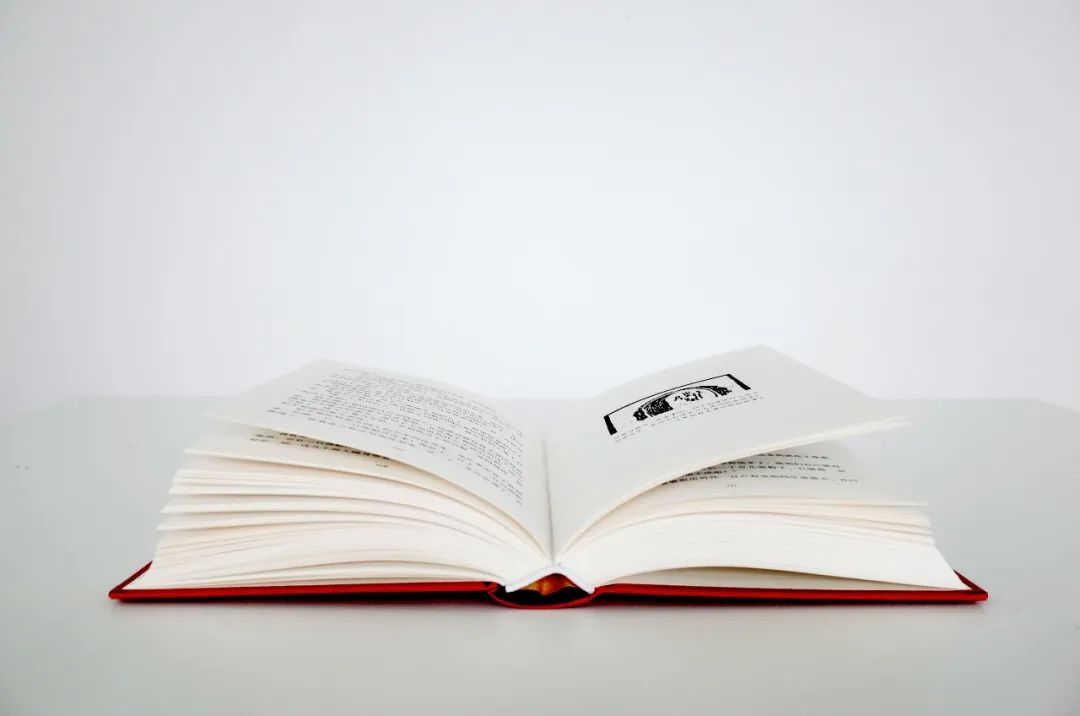book: (99, 335, 1025, 654)
